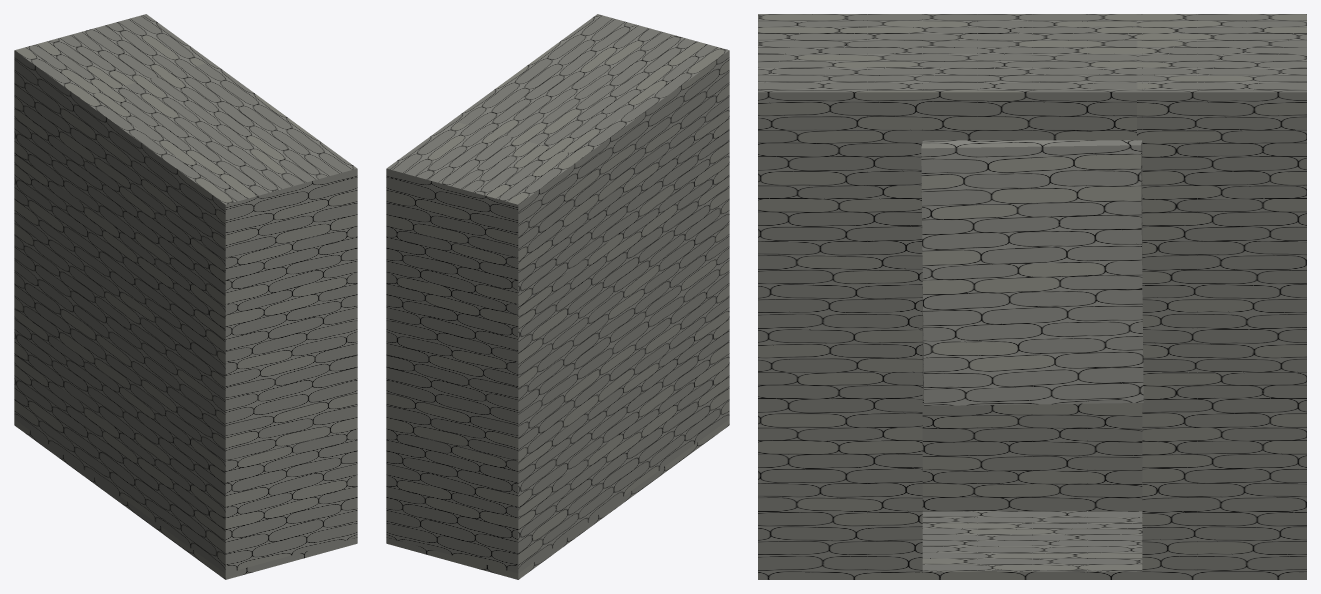
The model's file is fireplace.fbx.
The picture shows the model from 3 angles, left to right: view 1: azimuth 30°, elevation 25°; view 2: azimuth 150°, elevation 25°; view 3: azimuth 270°, elevation 25°; orthographic projection. The views are drawn at different scales.
Visible parts, largest first — view 1: fireplace; view 2: fireplace; view 3: fireplace.
Boxes of the visible parts, x1,y1,x2,y2 form: fireplace: (14,14,357,579); fireplace: (386,14,729,579); fireplace: (758,14,1306,579).
Size of the model in its own units: 5.27 by 10.85 by 10.95.
1 material, 1 textured.
